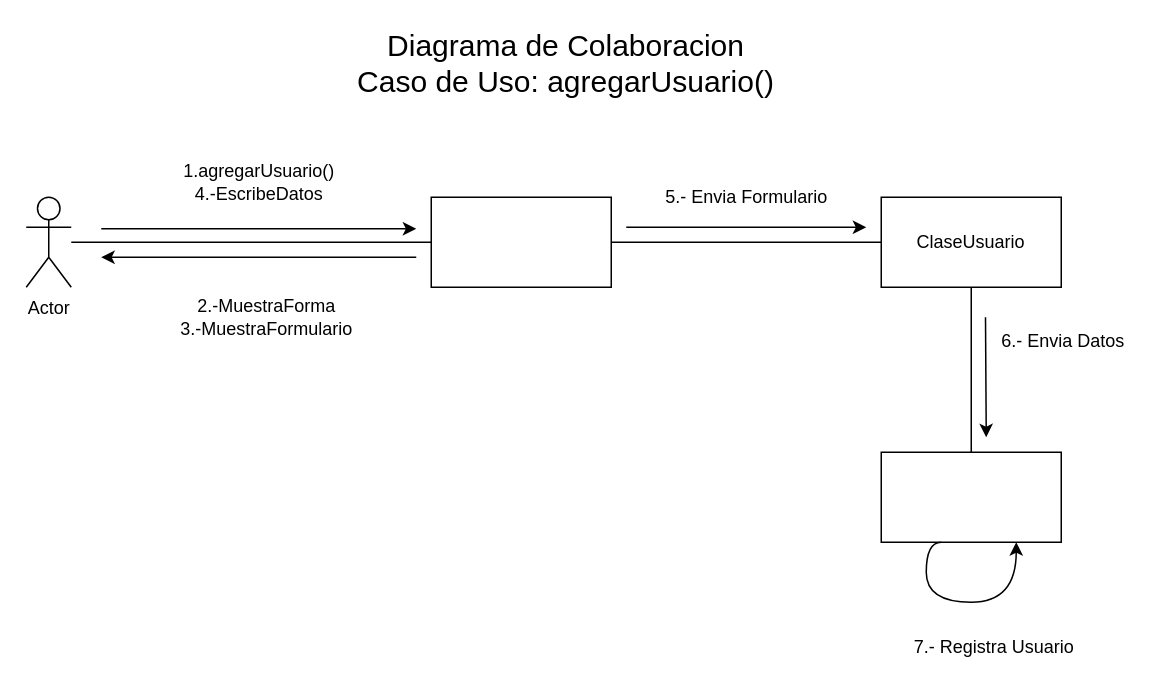
This 1151x683 diagram has some shape labels left out. The shapes that lost their labels are listed below. From the top down, each one's centre as x and y in pixels, then its label:
At [520,241]: "AgregarUsuario Form()".
At [970,496]: "BaseDatos".
